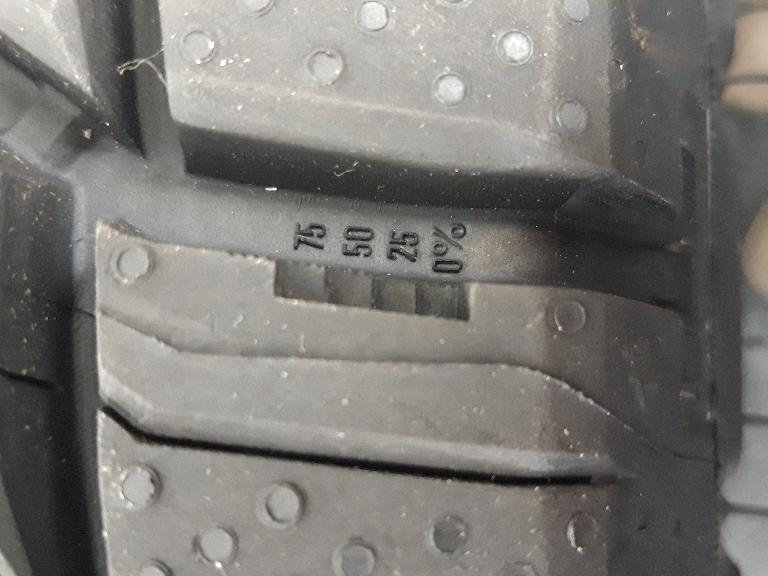temoin:100: (218, 244, 481, 332)
